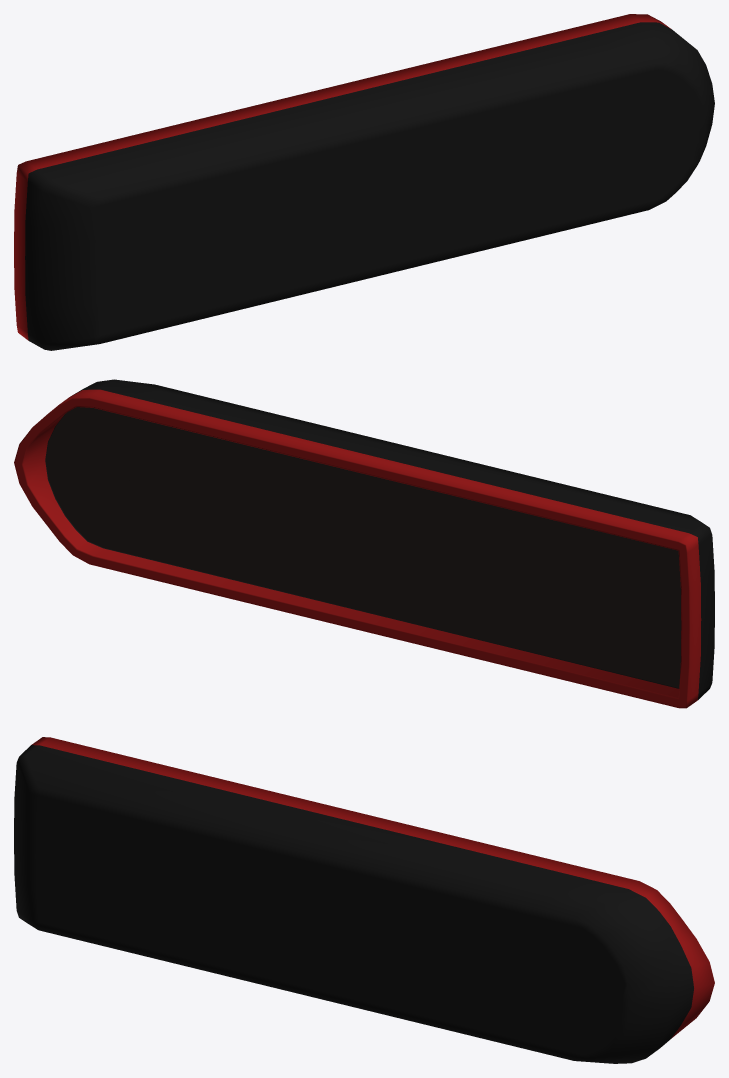
Rendered from Ship 1x8.fbx.
3 views of the same model, one above another, from view 1: azimuth 30°, elevation 25°; view 2: azimuth 150°, elevation 25°; view 3: azimuth 330°, elevation 25° (orthographic). The views are drawn at different scales.
Visible parts, largest first — view 1: Ship 1*8; view 2: Ship 1*8; view 3: Ship 1*8.
Part boxes in pixels (bbox=[...]): Ship 1*8: bbox=[14, 14, 714, 350]; Ship 1*8: bbox=[14, 379, 714, 708]; Ship 1*8: bbox=[14, 737, 714, 1063].
Size of the model in its own units: 1336 by 144 by 315.
